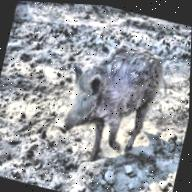boar: (46, 23, 169, 175)
